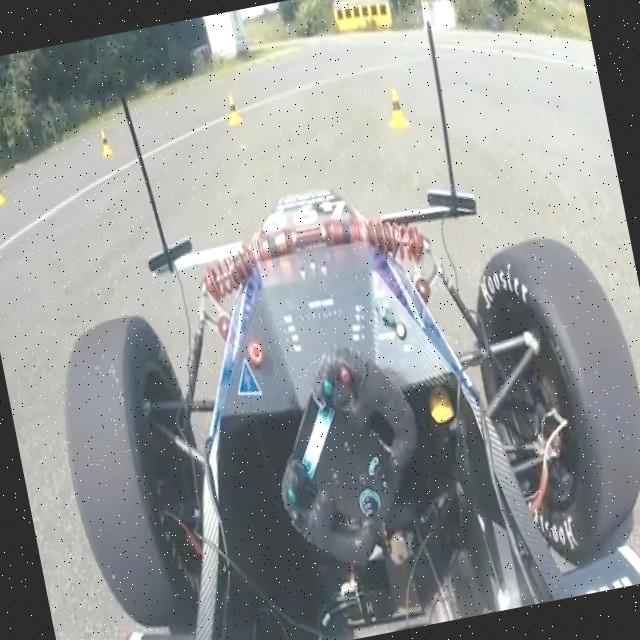yellow_cone: (383, 85, 411, 131), (224, 92, 244, 126), (98, 128, 114, 158), (0, 178, 8, 207)
